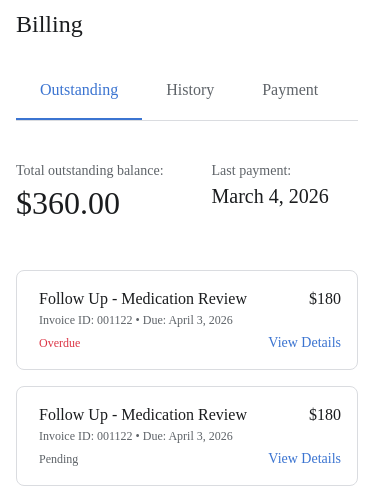
it: BillingScreen › switches to History tab
Click the text "History" at (190, 90), box [166,78,214,102]
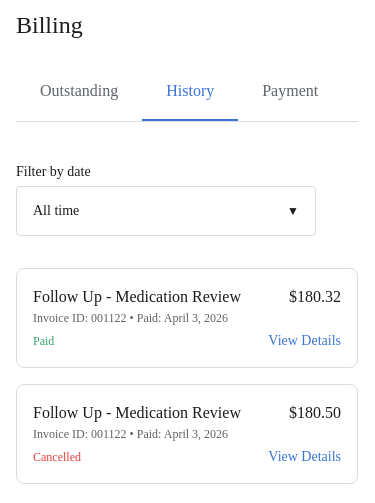
Expected: the text "Filter by date" is shown, [16,164,91,179]
Expected: the text "All time" is shown, [33,203,79,219]
